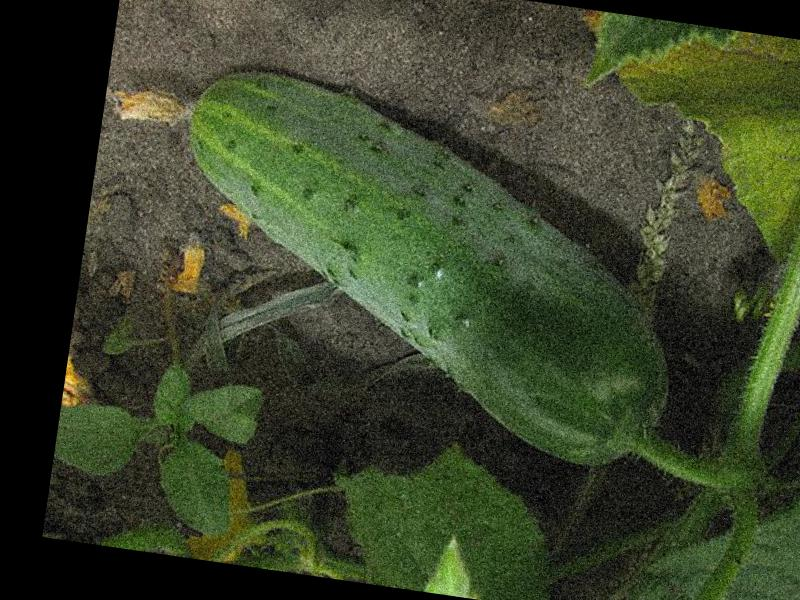Cucumber: (71, 48, 704, 474)
